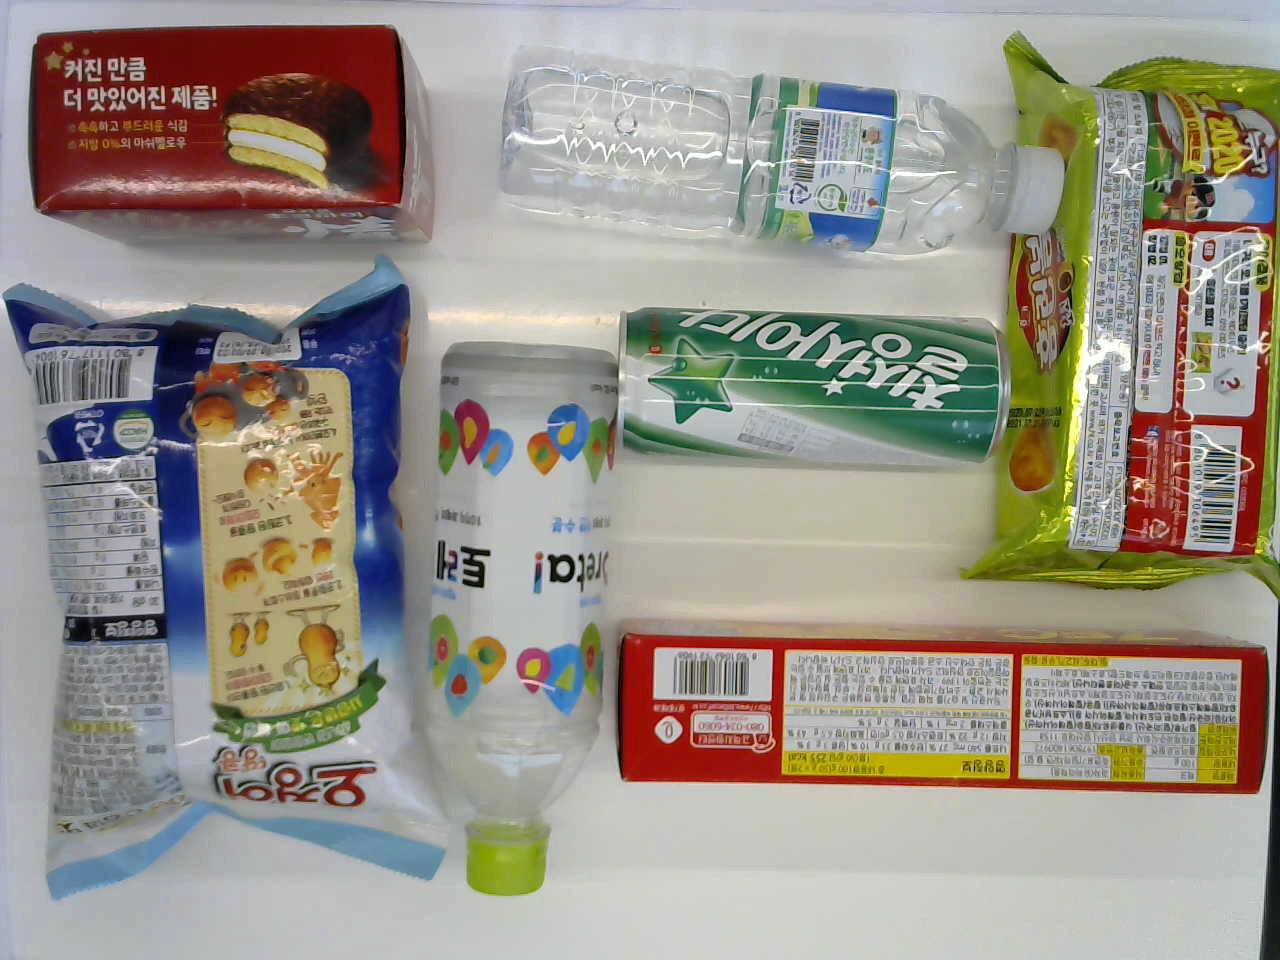chocopie: (17, 18, 433, 260)
cidar: (618, 309, 1018, 481)
homerunball: (1011, 18, 1280, 583)
samdasu: (493, 68, 1041, 250)
squid_peanut: (8, 284, 411, 871)
toreta: (430, 341, 622, 905)
zec: (614, 605, 1267, 796)
